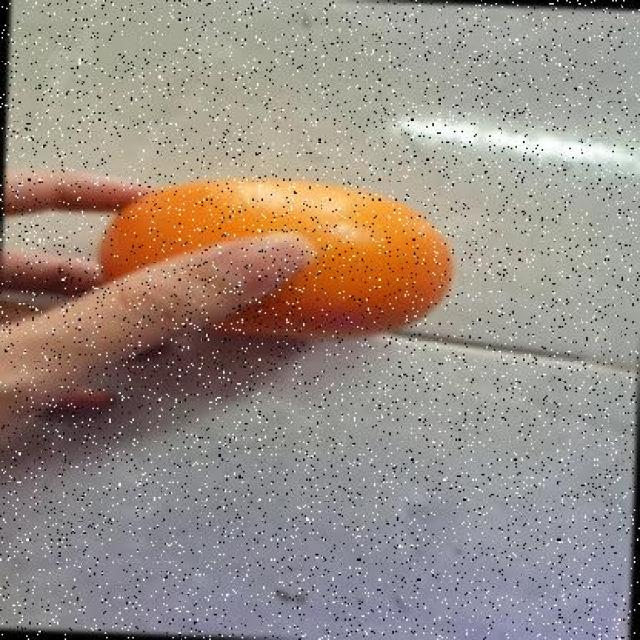Orange: (97, 174, 454, 343)
